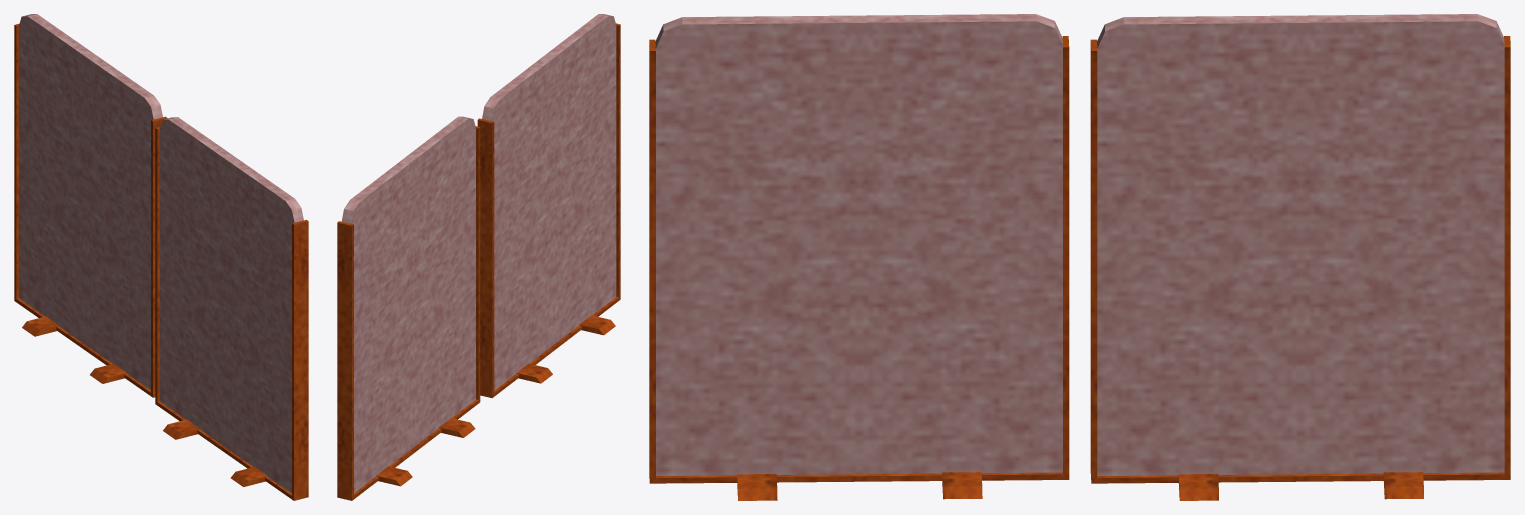
The model's file is dividers_04.fbx.
The picture shows the model from 3 angles, left to right: view 1: azimuth 30°, elevation 25°; view 2: azimuth 150°, elevation 25°; view 3: azimuth 270°, elevation 25°; orthographic projection. The views are drawn at different scales.
Visible parts, largest first — view 1: divider_veneer_red_half4, divider_veneer_red_half3; view 2: divider_veneer_red_half3, divider_veneer_red_half4; view 3: divider_veneer_red_half4, divider_veneer_red_half3.
Boxes of the visible parts, x1,y1,x2,y2 form: divider_veneer_red_half4: (155,117,308,500); divider_veneer_red_half3: (14,14,167,397); divider_veneer_red_half3: (337,116,480,500); divider_veneer_red_half4: (477,14,620,398); divider_veneer_red_half4: (649,14,1069,500); divider_veneer_red_half3: (1090,14,1510,500).
Bounding box in the file's own units: 54.82 × 250 × 426.
